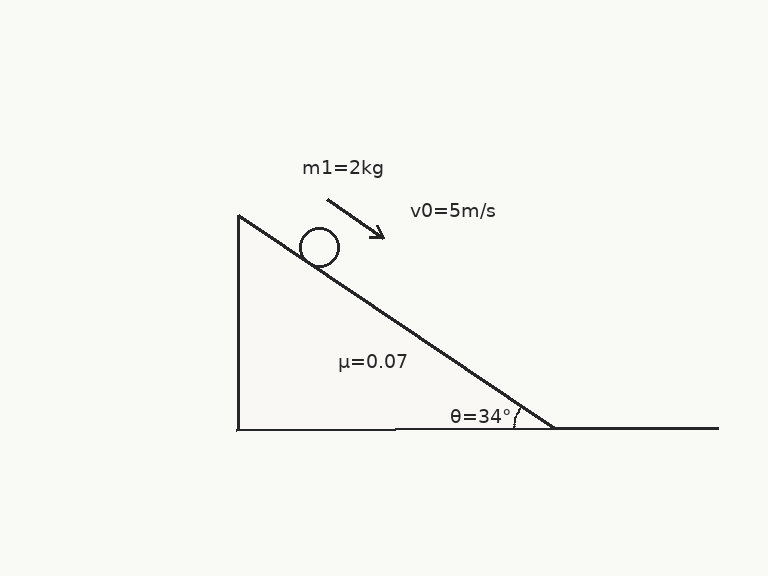ball: (297, 225, 341, 269)
ramp: (235, 213, 556, 431)
